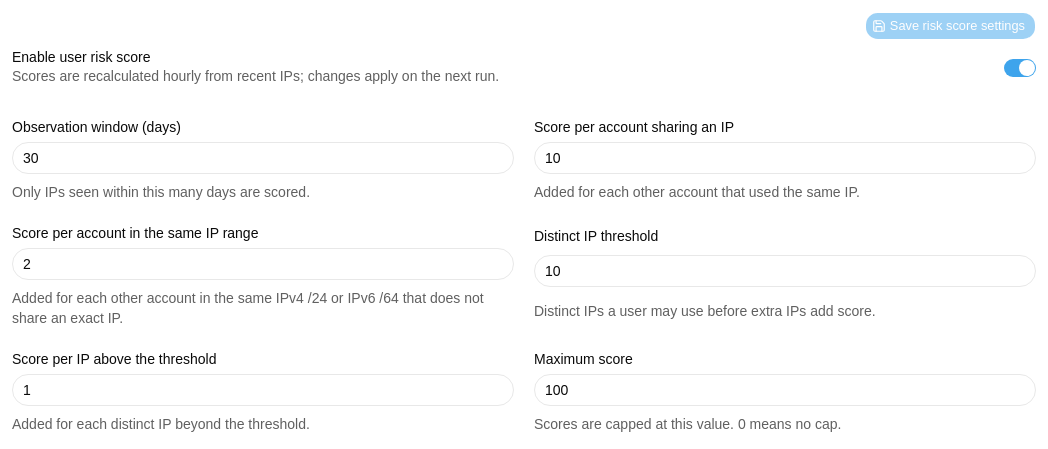
an observation window below one day is rejected without saving
Replace the text in the number field labelled "Observation window (days)" with "0" at (263, 158), box [12,142,514,174]
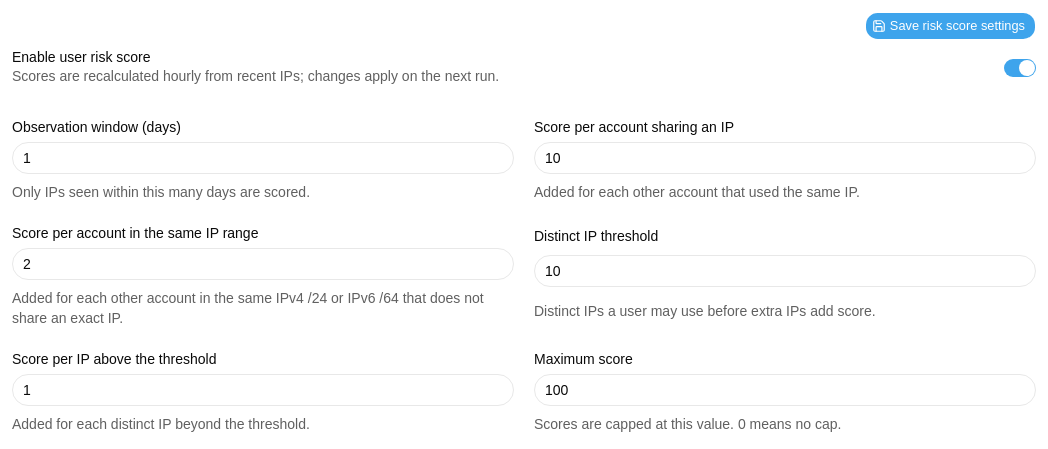
Result: the number field labelled "Observation window (days)" holds "1" at [12,142,514,174]
